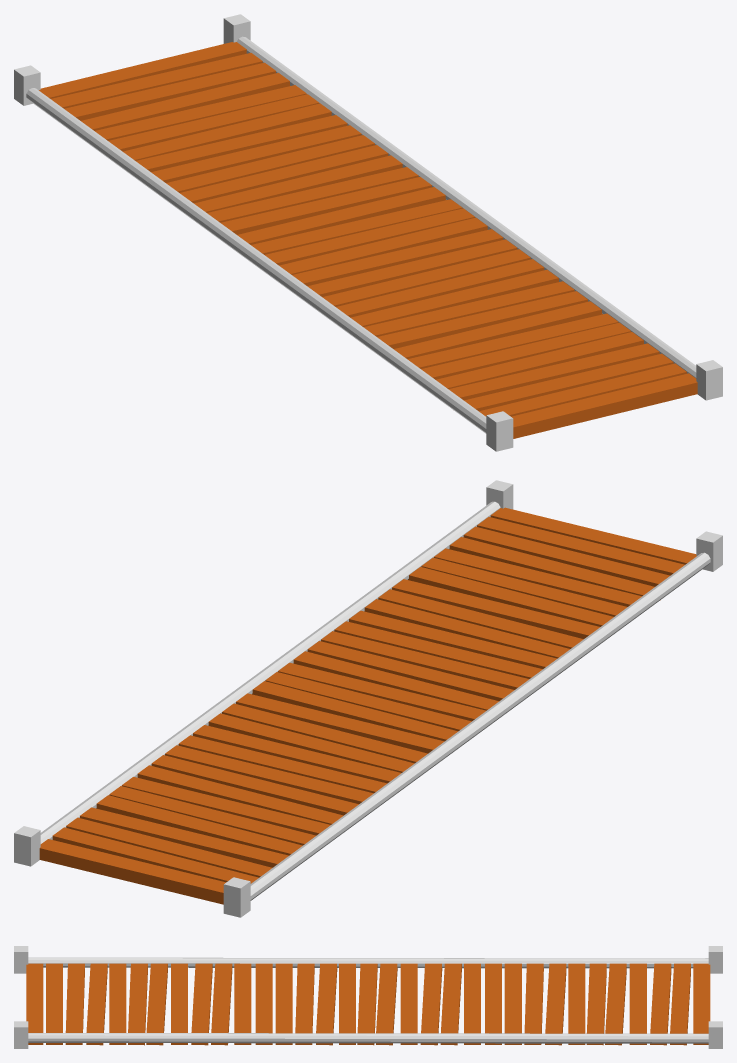
Rendered from tree_bridge_01.fbx.
3 views of the same model, one above another, from view 1: azimuth 30°, elevation 25°; view 2: azimuth 150°, elevation 25°; view 3: azimuth 270°, elevation 25° (orthographic). The views are drawn at different scales.
Parts seen in each view (by area): view 1: Cylinder.001; view 2: Cylinder.001; view 3: Cylinder.001.
Part boxes in pixels (left/top/right/bottom): Cylinder.001: left=14, top=14, right=722, bottom=451; Cylinder.001: left=14, top=480, right=722, bottom=917; Cylinder.001: left=14, top=946, right=722, bottom=1048.
Bounding box in the file's own units: 178 × 21.97 × 654.
